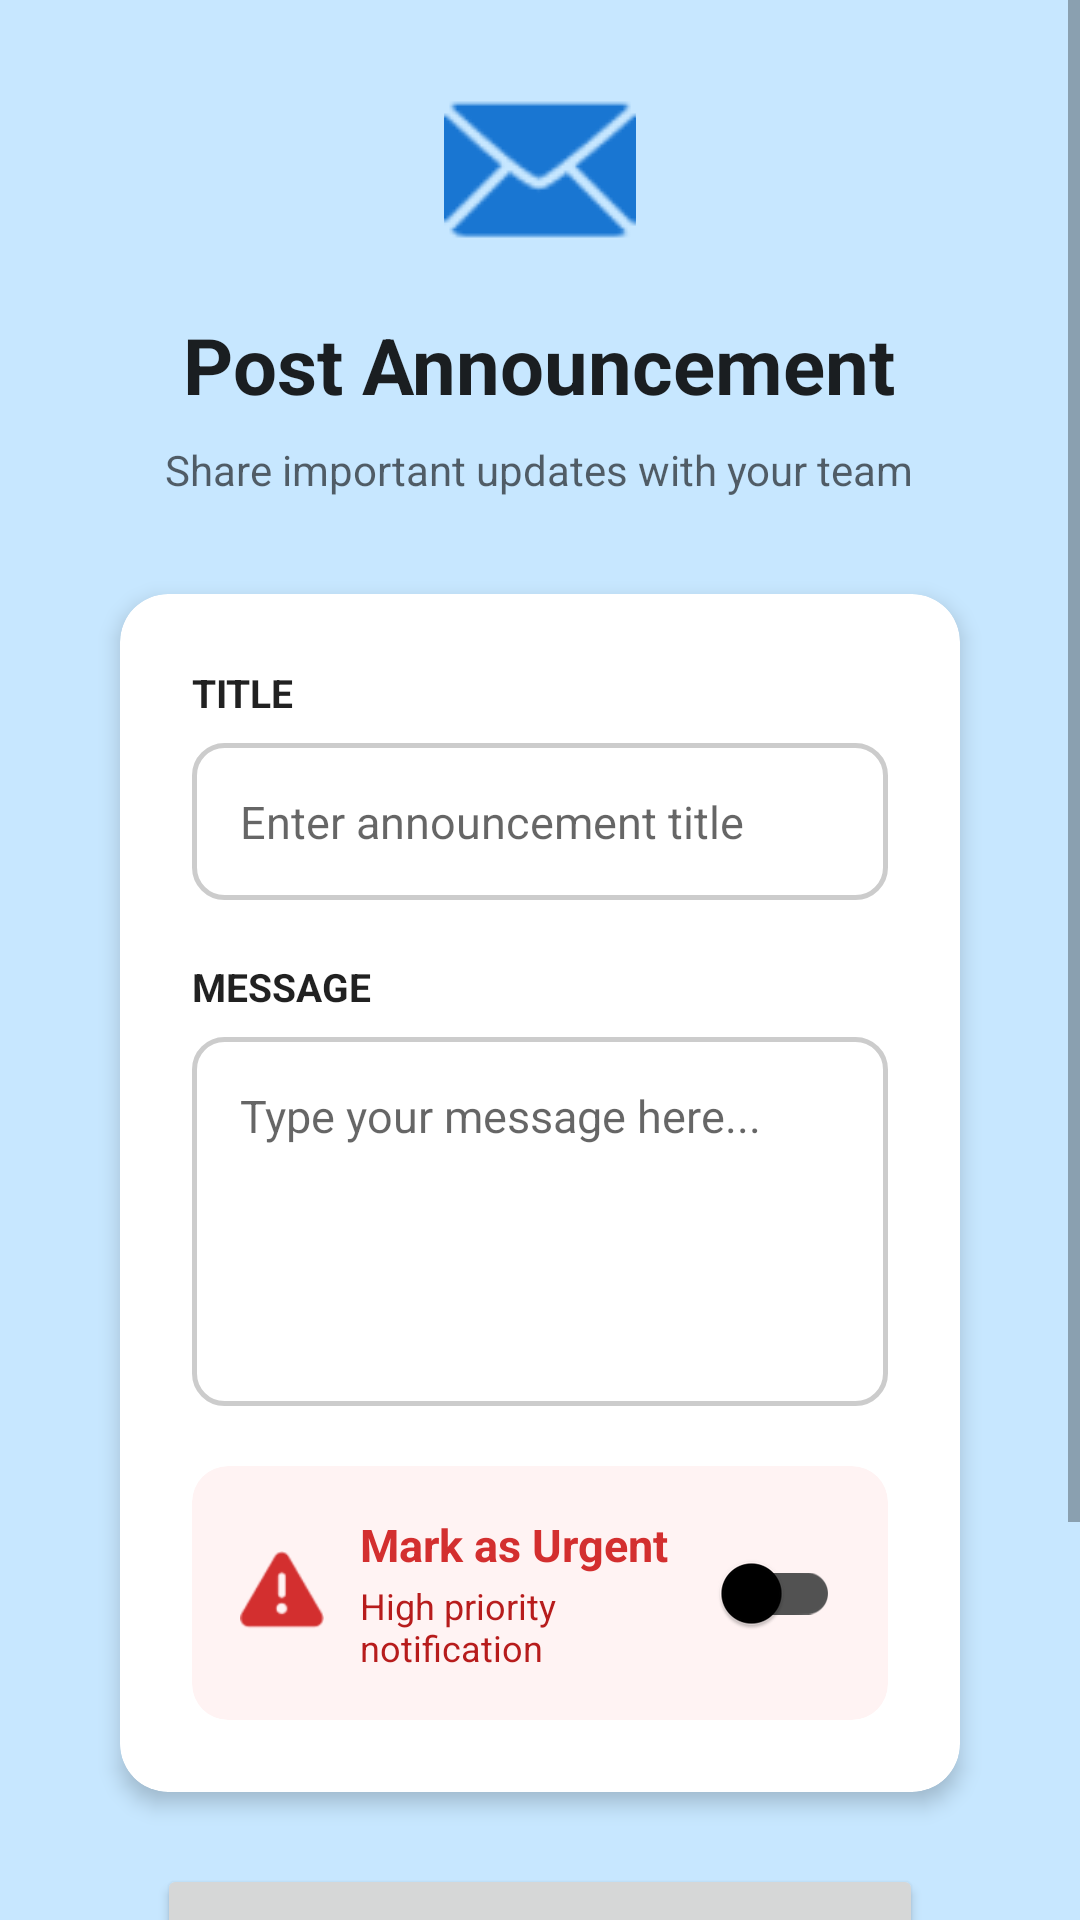

Point at icon controls on the screen. Image size 1080px×1920px, points as (x=x, y=y).
Urgent alert icon: (x=282, y=1589)
